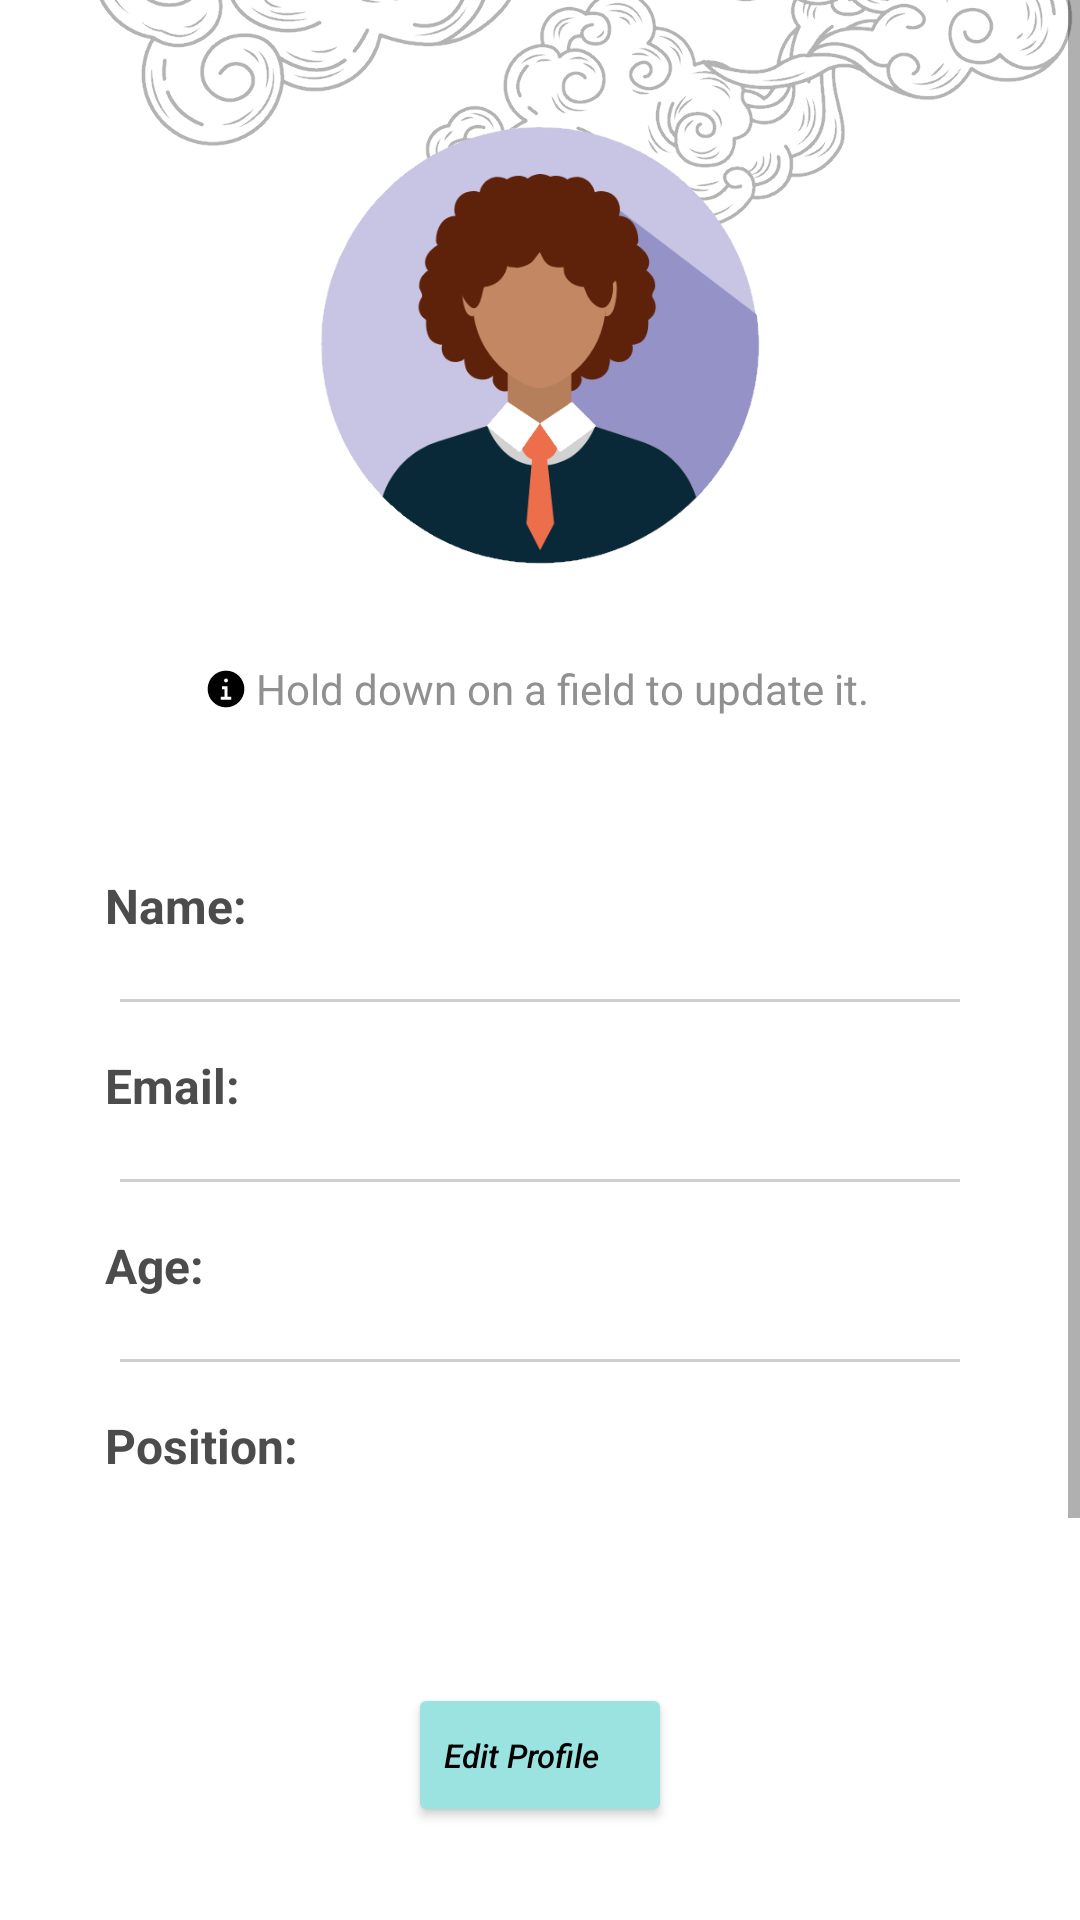

Icons on this 1080w x 1920h Android screen, each with the point to tap as point (x, y):
info: point (226, 689)
